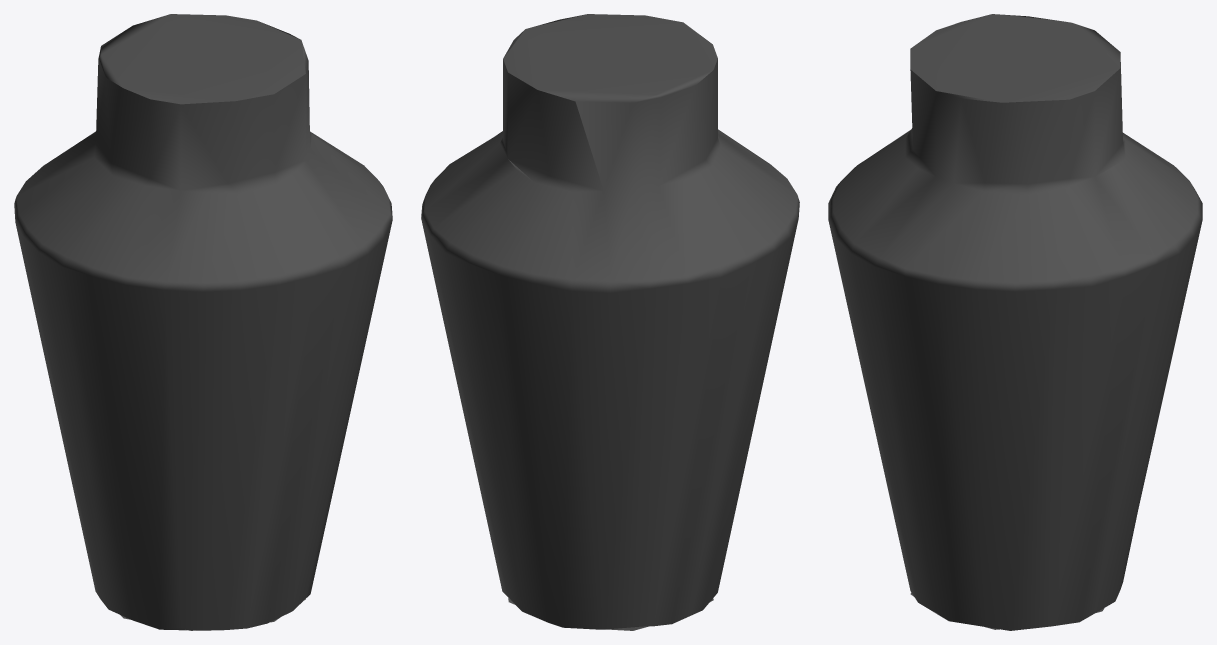
The model's file is Vase0004.obj.
3 renders of one model, left to right at view 1: azimuth 30°, elevation 25°; view 2: azimuth 150°, elevation 25°; view 3: azimuth 270°, elevation 25°, orthographic.
Size of the model in its own units: 0.148 by 0.228 by 0.146.
Materials: 1 (1 with a texture image).
